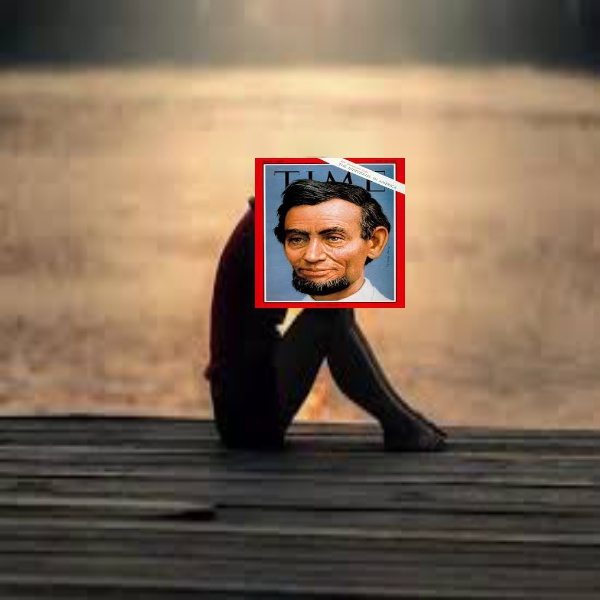time_cover: (257, 152, 401, 311)
